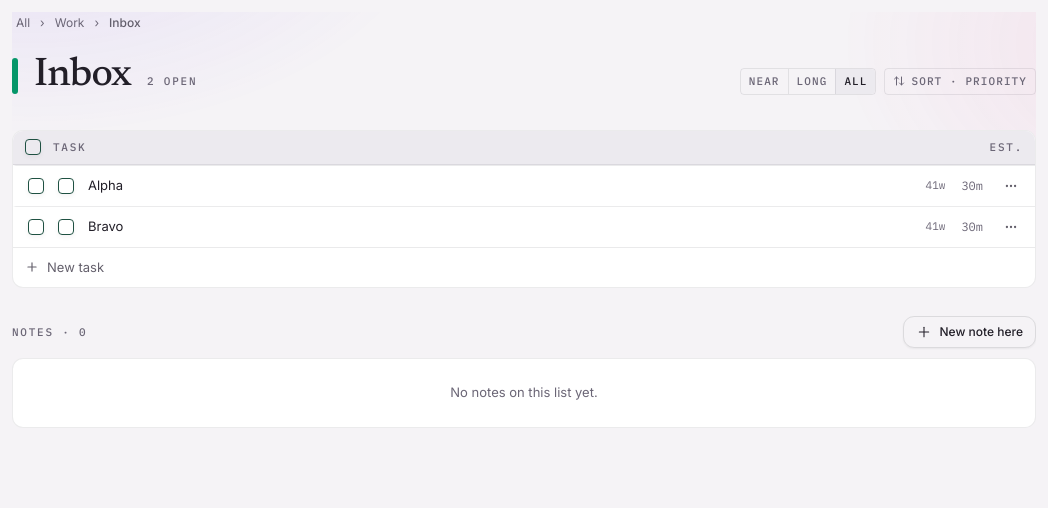
Test: SubcategoryView (chunk 31 re-skin) › selects all visible tasks via the select-all checkbox
Expected: the heading "Inbox" is shown, left=34, top=46, right=131, bottom=106
Click the checkbox named "select all tasks" at (33, 147), box left=25, top=139, right=41, bottom=155
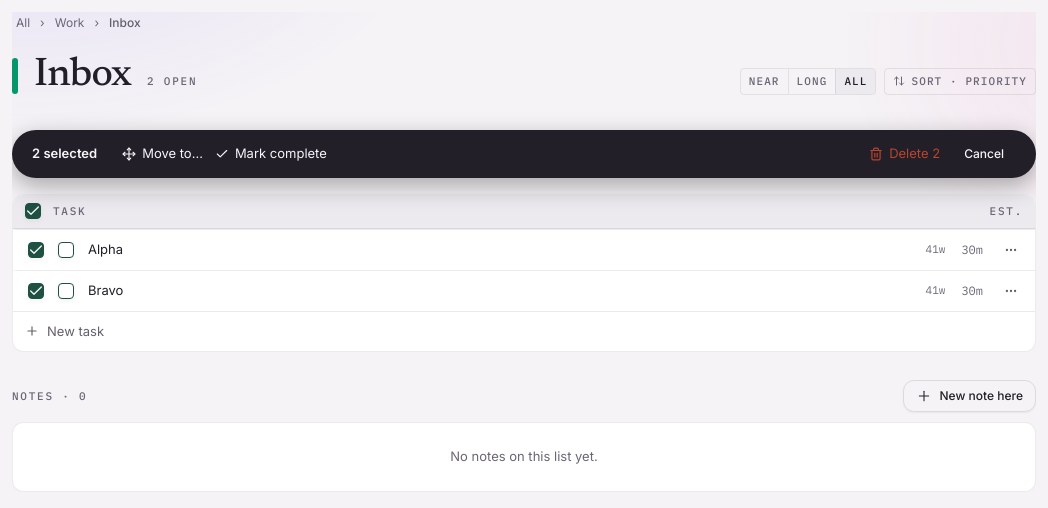
Expected: the text "2 selected" is shown, left=32, top=144, right=97, bottom=164
